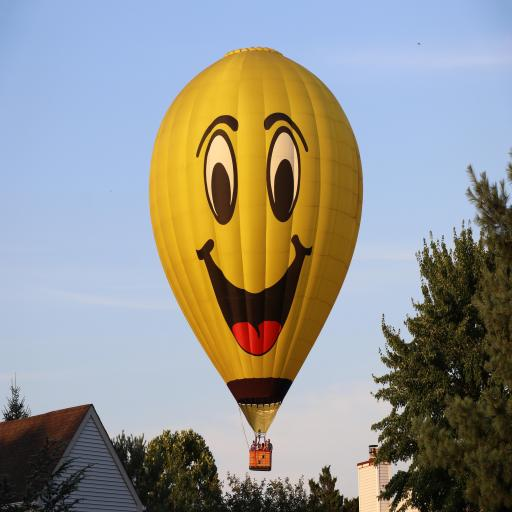hot air ballon: (147, 45, 365, 472)
